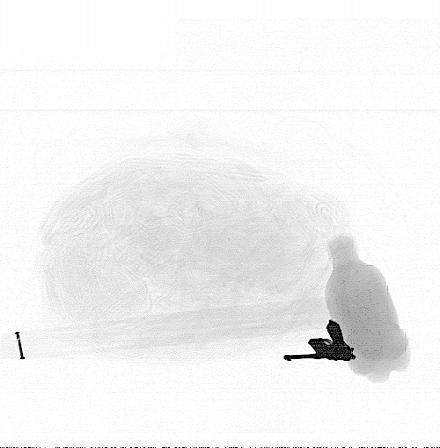Gun: (283, 320, 357, 362)
